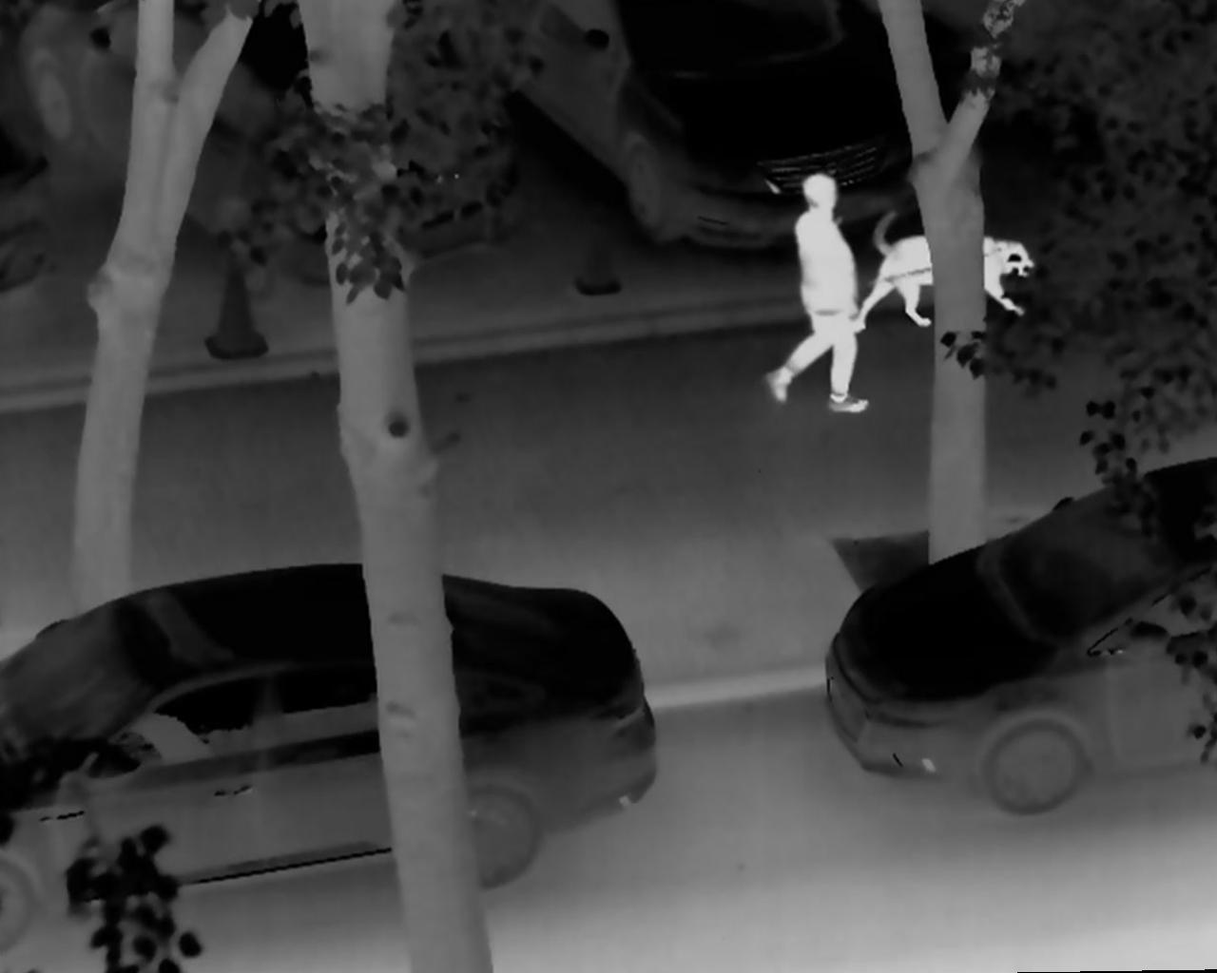person: (766, 172, 876, 418)
